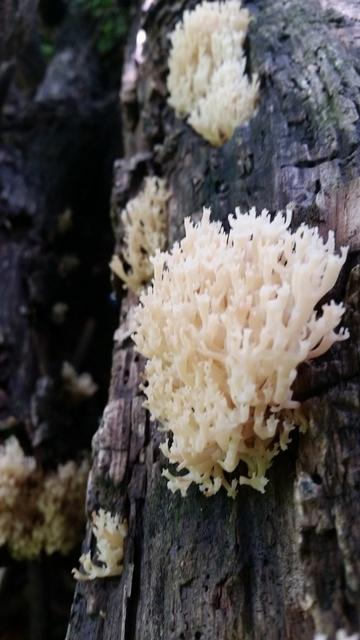edible_mushroom: (129, 202, 350, 499), (164, 0, 261, 147)
